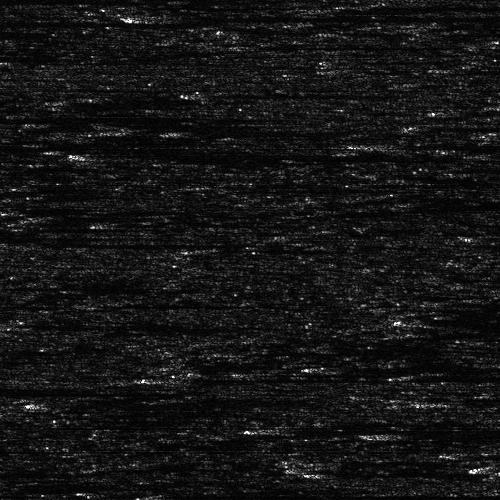rock: (28, 6, 277, 25), (29, 146, 134, 161), (278, 464, 351, 481), (197, 40, 280, 51), (13, 396, 96, 407), (0, 318, 54, 329), (159, 89, 242, 96), (218, 424, 281, 433), (94, 298, 157, 307), (126, 489, 179, 498), (0, 238, 47, 247), (0, 282, 31, 289), (137, 128, 178, 133)
shadow: (153, 6, 500, 25), (0, 113, 474, 122), (82, 146, 344, 161), (315, 464, 497, 481), (55, 396, 313, 407), (153, 489, 418, 498), (0, 18, 461, 23), (1, 238, 255, 247), (239, 40, 422, 51), (0, 388, 192, 397), (250, 424, 429, 433), (126, 298, 300, 307), (158, 128, 424, 133), (201, 89, 381, 96), (0, 229, 103, 240), (0, 282, 159, 289), (23, 318, 109, 329), (0, 466, 88, 475), (0, 0, 216, 2), (0, 302, 53, 309), (0, 52, 32, 59)
